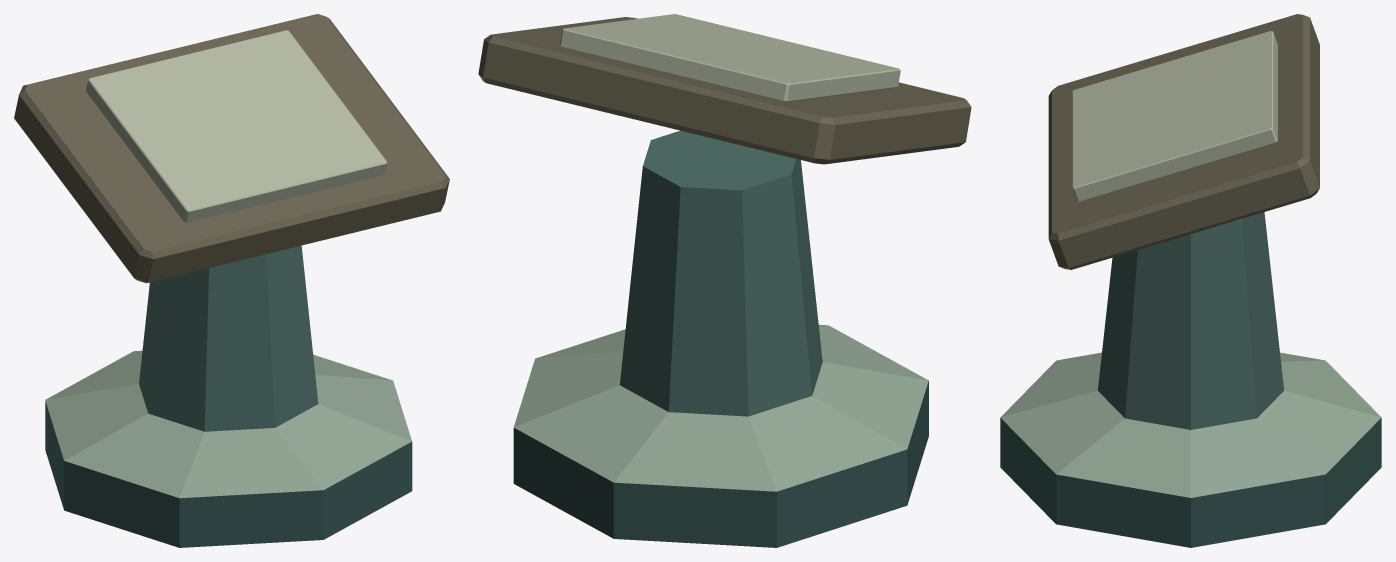
File: lectern.glb
The picture shows the model from 3 angles, left to right: view 1: azimuth 30°, elevation 25°; view 2: azimuth 150°, elevation 25°; view 3: azimuth 270°, elevation 25°; orthographic projection. The views are drawn at different scales.
Visible parts, largest first — view 1: lectern__body; view 2: lectern__body; view 3: lectern__body.
Part boxes in pixels (x1=…): lectern__body: x1=14, y1=14, x2=449, y2=547; lectern__body: x1=478, y1=14, x2=971, y2=547; lectern__body: x1=1000, y1=14, x2=1381, y2=547.
Bounding box in the file's own units: 0.9 × 1.01 × 0.9.
